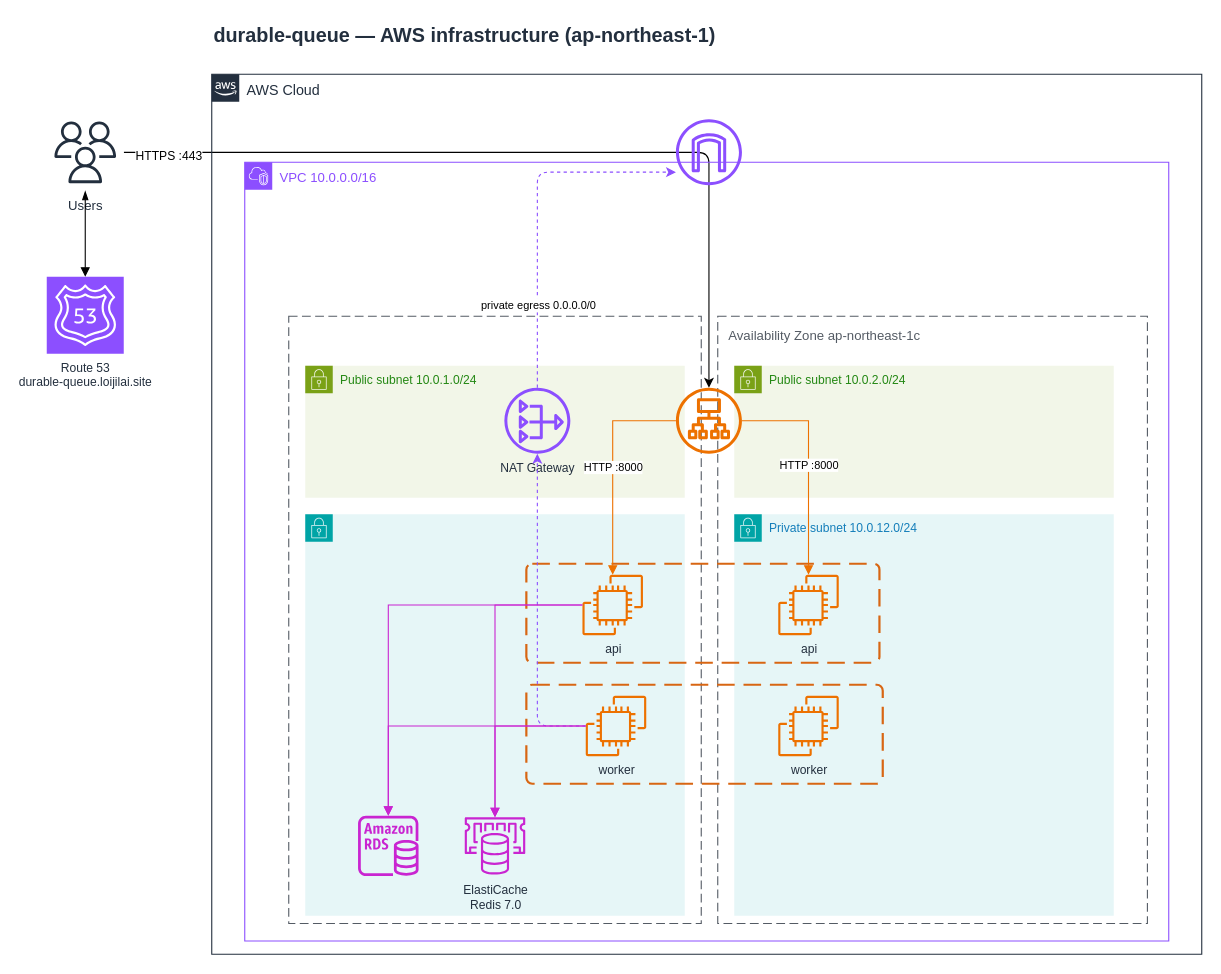
Image size: 1221x974. Some labels were removed from this diagram. Here are the shapes that lost their labels. From the top down, the box of each, then its label:
(675, 119, 741, 185): Internet Gateway
(675, 387, 741, 453): Application Load Balancer
(288, 315, 701, 923): Availability Zone ap-northeast-1a
(525, 562, 880, 663): api-asg
(304, 513, 685, 916): Private subnet 10.0.11.0/24
(525, 683, 883, 784): worker-asg
(358, 815, 418, 876): RDS PostgreSQL 16
